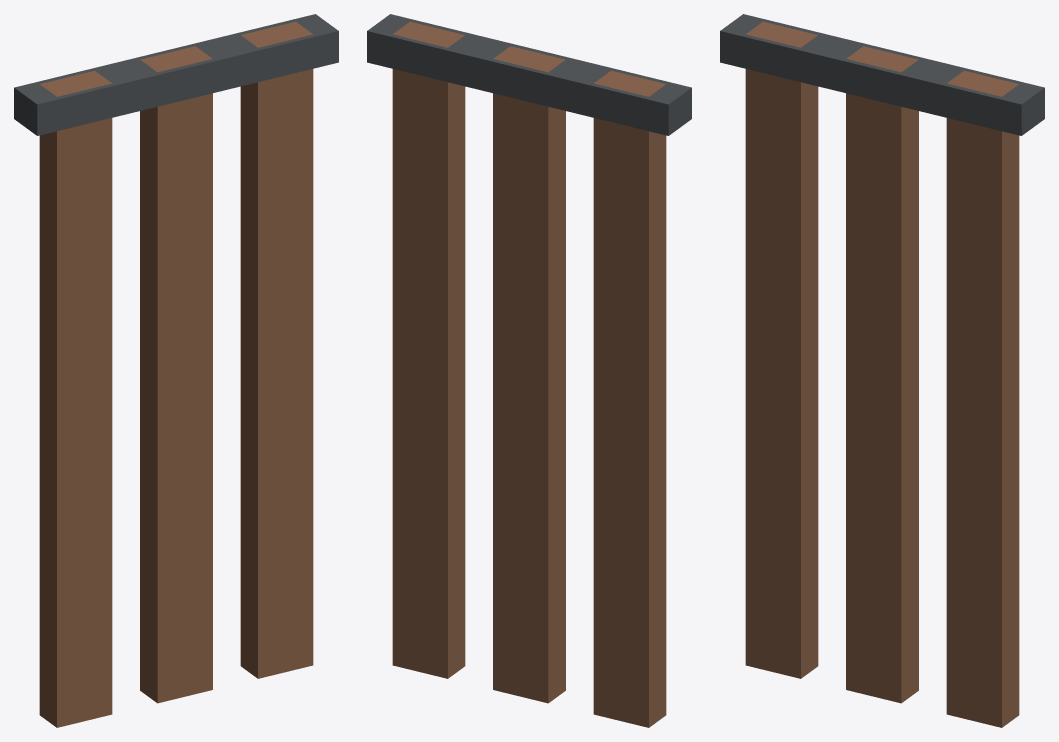
The model's file is bh_villa_gate_pedestrian_01_lod0.glb.
3 renders of one model, left to right at view 1: azimuth 30°, elevation 25°; view 2: azimuth 150°, elevation 25°; view 3: azimuth 330°, elevation 25°, orthographic.
Visible parts, largest first — view 1: bh_villa_gate_pedestrian_01_slat_00, bh_villa_gate_pedestrian_01_slat_02, bh_villa_gate_pedestrian_01_slat_01, bh_villa_gate_pedestrian_01_frame_top; view 2: bh_villa_gate_pedestrian_01_slat_00, bh_villa_gate_pedestrian_01_slat_02, bh_villa_gate_pedestrian_01_slat_01, bh_villa_gate_pedestrian_01_frame_top; view 3: bh_villa_gate_pedestrian_01_slat_02, bh_villa_gate_pedestrian_01_slat_00, bh_villa_gate_pedestrian_01_slat_01, bh_villa_gate_pedestrian_01_frame_top.
Boxes of the visible parts, box(x1,y1,x2,y2) form: bh_villa_gate_pedestrian_01_slat_00: box(39, 70, 112, 727); bh_villa_gate_pedestrian_01_slat_02: box(240, 21, 313, 678); bh_villa_gate_pedestrian_01_slat_01: box(140, 46, 212, 703); bh_villa_gate_pedestrian_01_frame_top: box(14, 14, 338, 135); bh_villa_gate_pedestrian_01_slat_00: box(593, 70, 666, 727); bh_villa_gate_pedestrian_01_slat_02: box(392, 21, 465, 678); bh_villa_gate_pedestrian_01_slat_01: box(493, 46, 565, 703); bh_villa_gate_pedestrian_01_frame_top: box(367, 14, 691, 135); bh_villa_gate_pedestrian_01_slat_02: box(946, 70, 1019, 727); bh_villa_gate_pedestrian_01_slat_00: box(745, 21, 818, 678); bh_villa_gate_pedestrian_01_slat_01: box(846, 46, 918, 703); bh_villa_gate_pedestrian_01_frame_top: box(720, 14, 1044, 135).
Size of the model in its own units: 1.2 by 2.4 by 0.16.
